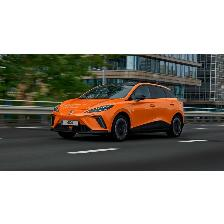EV: (53, 83, 186, 140)
